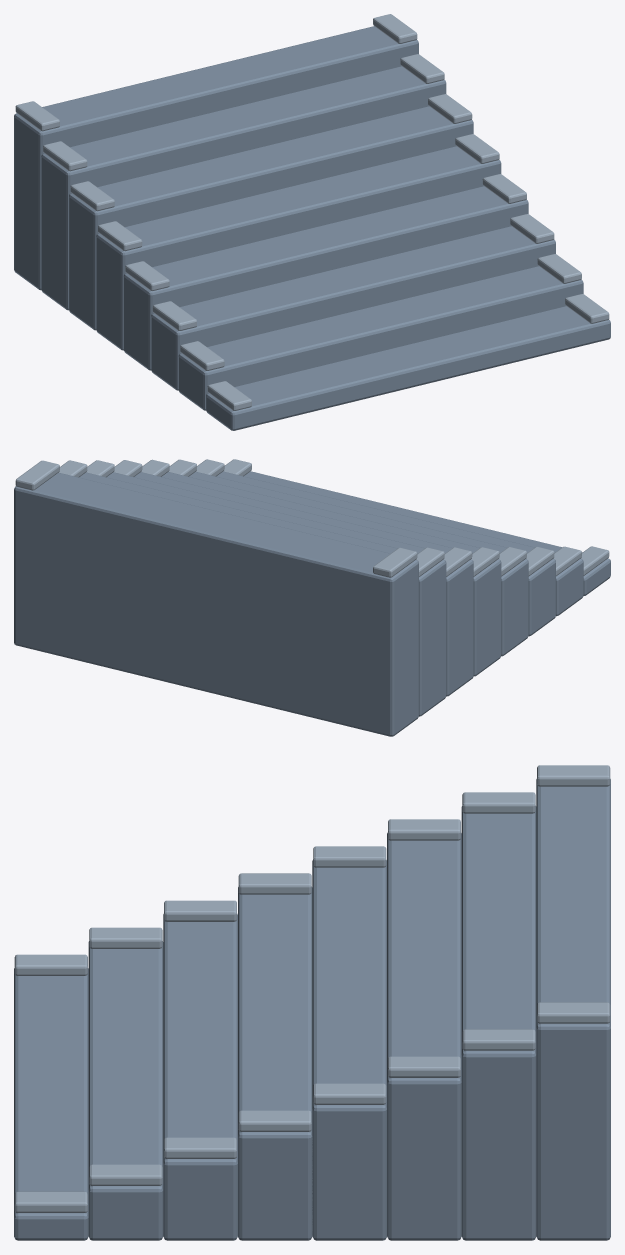
The model's file is stairs.glb.
3 views of the same model, one above another, from view 1: azimuth 30°, elevation 25°; view 2: azimuth 150°, elevation 25°; view 3: azimuth 270°, elevation 25° (orthographic). The views are drawn at different scales.
Visible parts, largest first — view 1: Stair_7, Stair_6, Stair_5, Stair_4, Stair_3, Stair_2, Stair_1, Stair_0, Stair_Trim.001, Stair_Trim.007, Stair_Trim.014, Stair_Trim.006 (+12 smaller); view 2: Stair_7, Stair_6, Stair_5, Stair_4, Stair_3, Stair_2, Stair_1, Stair_0, Stair_Trim.007, Stair_Trim.015, Stair_Trim.004, Stair_Trim.002 (+5 smaller); view 3: Stair_7, Stair_6, Stair_5, Stair_4, Stair_3, Stair_2, Stair_1, Stair_0, Stair_Trim.001, Stair_Trim.004, Stair_Trim.006, Stair_Trim.007 (+12 smaller).
Part boxes in pixels (x1,y1,x2,y2): Stair_7: (14, 26, 418, 290); Stair_6: (41, 66, 446, 310); Stair_5: (69, 106, 473, 330); Stair_4: (96, 146, 501, 350); Stair_3: (123, 186, 528, 370); Stair_2: (151, 226, 555, 390); Stair_1: (178, 266, 583, 410); Stair_0: (206, 306, 610, 430); Stair_Trim.001: (180, 341, 224, 370); Stair_Trim.007: (15, 101, 59, 131); Stair_Trim.014: (400, 54, 444, 83); Stair_Trim.006: (43, 141, 87, 171); Stair_7: (14, 472, 418, 736); Stair_6: (79, 472, 446, 716); Stair_5: (107, 472, 473, 696); Stair_4: (134, 472, 501, 676); Stair_3: (161, 472, 528, 656); Stair_2: (189, 471, 555, 636); Stair_1: (216, 471, 583, 616); Stair_0: (244, 471, 610, 596); Stair_Trim.007: (373, 547, 417, 577); Stair_Trim.015: (15, 460, 59, 490); Stair_Trim.004: (471, 547, 499, 576); Stair_Trim.002: (526, 546, 554, 576); Stair_7: (536, 779, 610, 1240); Stair_6: (461, 806, 536, 1240); Stair_5: (387, 832, 461, 1240); Stair_4: (312, 859, 386, 1240); Stair_3: (238, 886, 312, 1240); Stair_2: (163, 913, 237, 1240); Stair_1: (88, 941, 163, 1240); Stair_0: (14, 968, 88, 1240); Stair_Trim.001: (89, 927, 162, 948); Stair_Trim.004: (313, 846, 386, 867); Stair_Trim.006: (462, 792, 535, 813); Stair_Trim.007: (537, 765, 610, 786).
Bounding box in the file's own units: 4 × 1.68 × 4.
